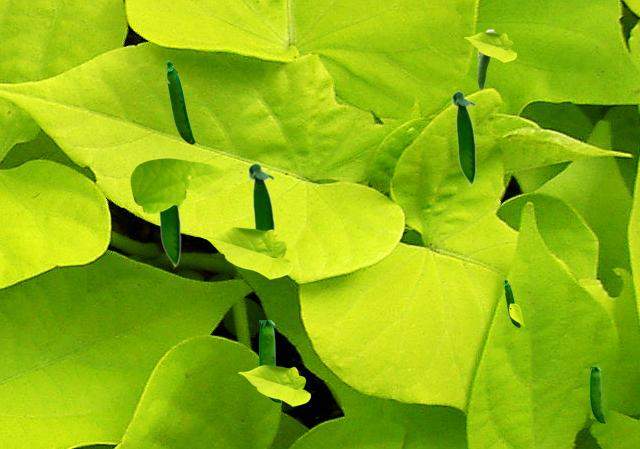pea: (166, 60, 194, 143), (451, 90, 475, 186), (247, 162, 274, 229), (259, 320, 280, 403), (158, 206, 180, 268), (477, 29, 494, 89), (590, 367, 604, 423), (504, 279, 519, 326)
